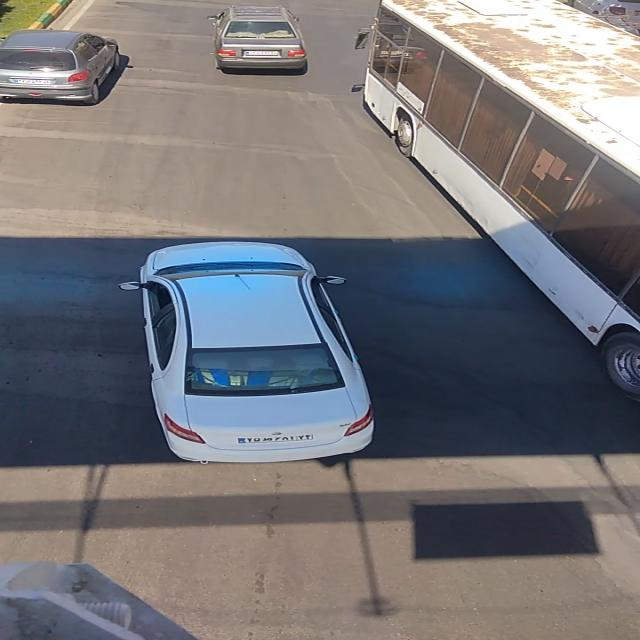bus: (352, 0, 637, 404)
car: (114, 245, 374, 464), (2, 29, 124, 102), (206, 8, 310, 72)
